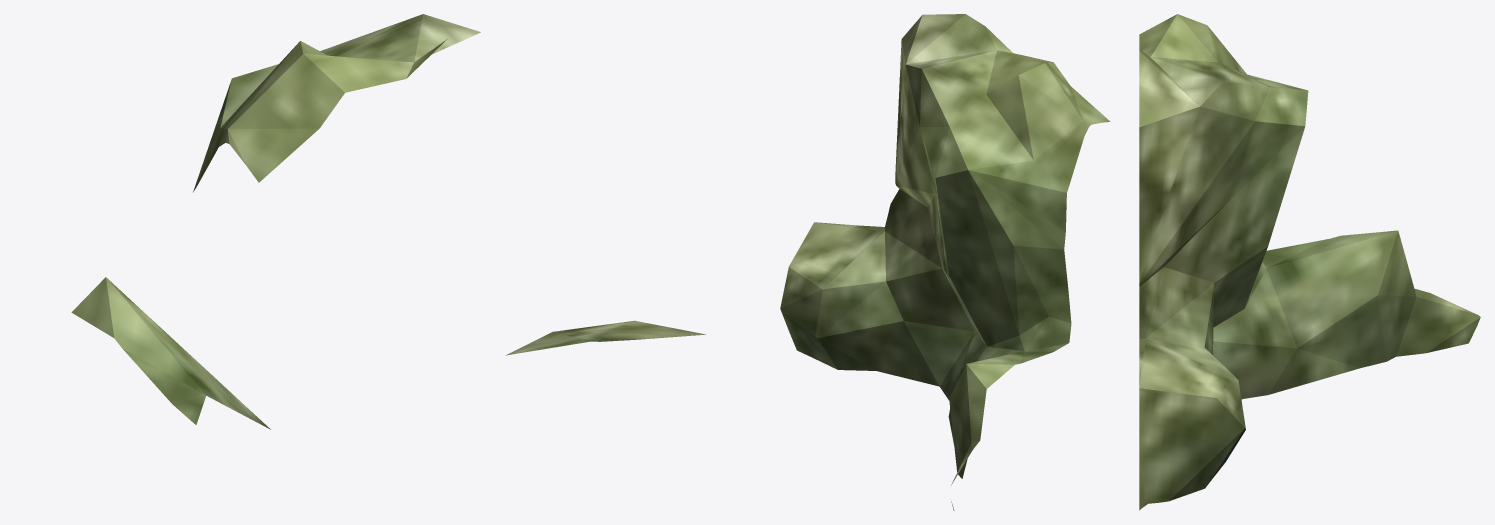
3 renders of one model, left to right at view 1: azimuth 30°, elevation 25°; view 2: azimuth 150°, elevation 25°; view 3: azimuth 270°, elevation 25°, orthographic. The views are drawn at different scales.
Size of the model in its own units: 1.11 by 1.13 by 0.9559.
1 material, 1 textured.
